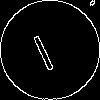I: (25, 25, 57, 73)
